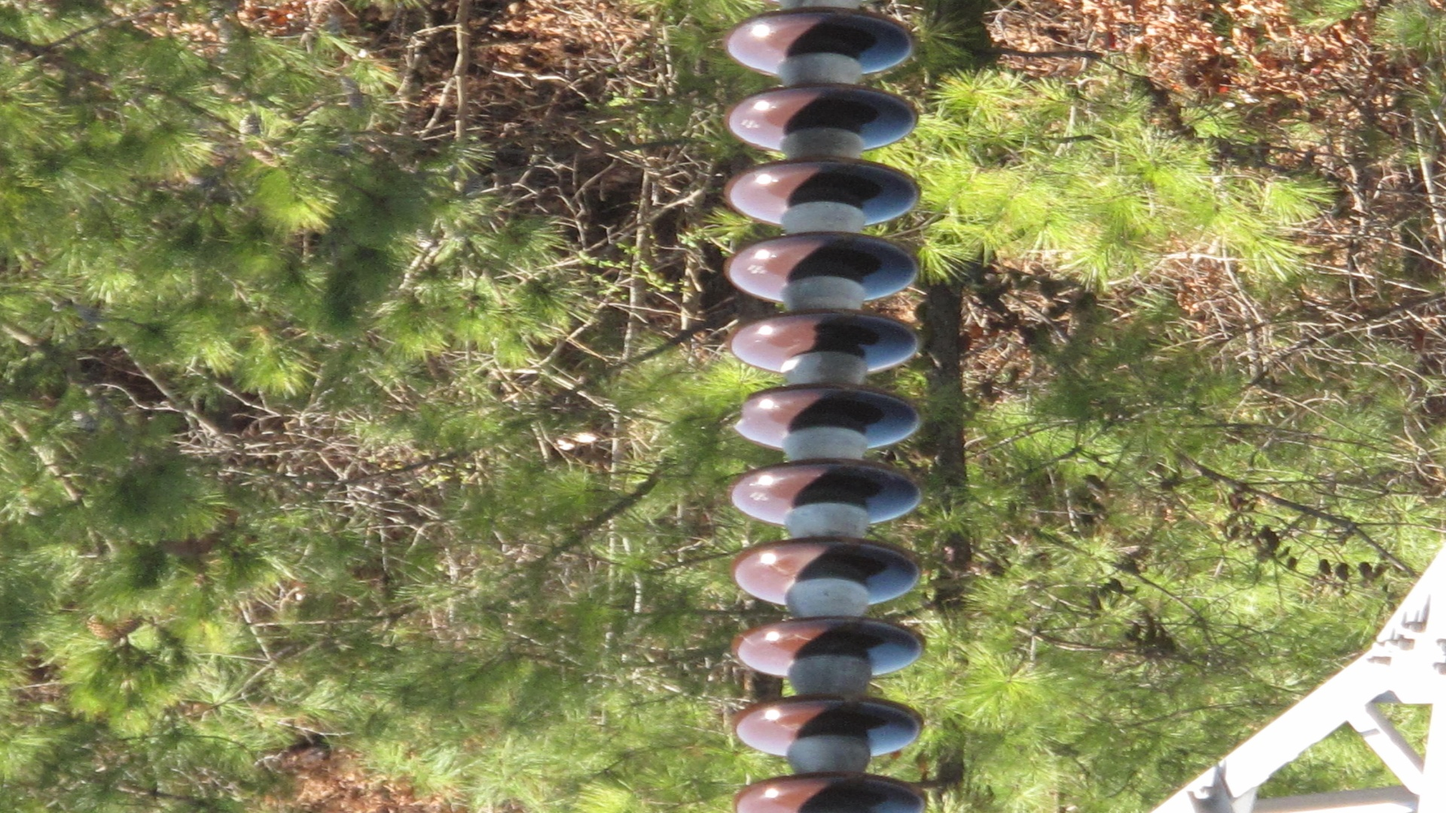insulator: (720, 1, 938, 813)
insulator_breakage: (731, 389, 764, 436)
